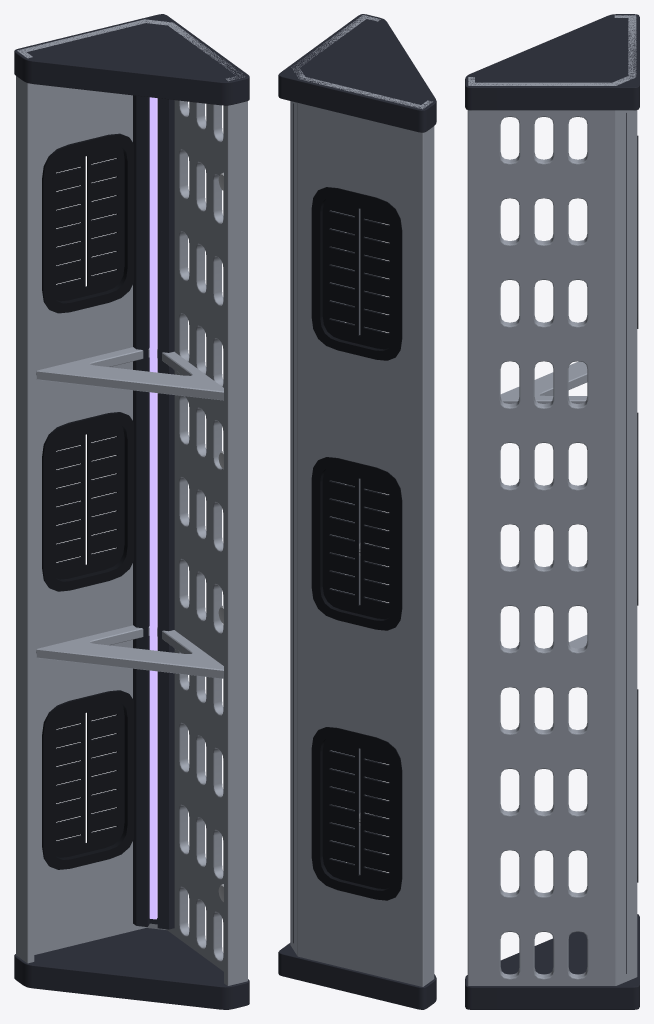
The model's file is CaseFrame.glb.
3 views of the same model, side by side, from view 1: azimuth 30°, elevation 25°; view 2: azimuth 150°, elevation 25°; view 3: azimuth 270°, elevation 25° (orthographic). The views are drawn at different scales.
Parts seen in each view (by area): view 1: Frame__Metal__9AA0AC, Caps__Metal__2A2D38, Grommets__Plastic__16181E, Light__Neon__8B7CFF; view 2: Frame__Metal__9AA0AC, Grommets__Plastic__16181E, Caps__Metal__2A2D38; view 3: Frame__Metal__9AA0AC, Caps__Metal__2A2D38, Grommets__Plastic__16181E.
Boxes of the visible parts, <box> form: Frame__Metal__9AA0AC: <box>16,19,247,985</box>; Caps__Metal__2A2D38: <box>14,14,249,1009</box>; Grommets__Plastic__16181E: <box>42,133,133,869</box>; Light__Neon__8B7CFF: <box>149,97,157,919</box>; Frame__Metal__9AA0AC: <box>290,15,434,986</box>; Grommets__Plastic__16181E: <box>311,187,402,900</box>; Caps__Metal__2A2D38: <box>278,14,436,1009</box>; Frame__Metal__9AA0AC: <box>467,15,637,985</box>; Caps__Metal__2A2D38: <box>465,14,639,1009</box>; Grommets__Plastic__16181E: <box>637,135,638,882</box>.
Size of the model in its own units: 20.6 by 120 by 20.6.
